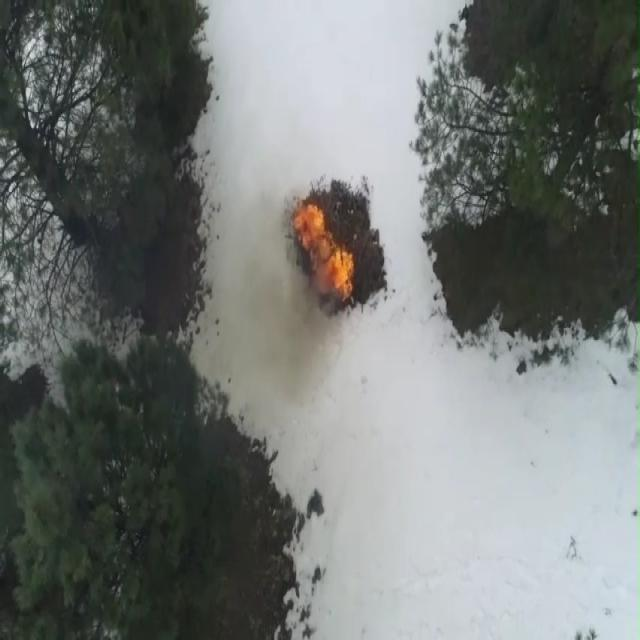Fire: (294, 201, 354, 295)
Smoke: (257, 276, 332, 392)
